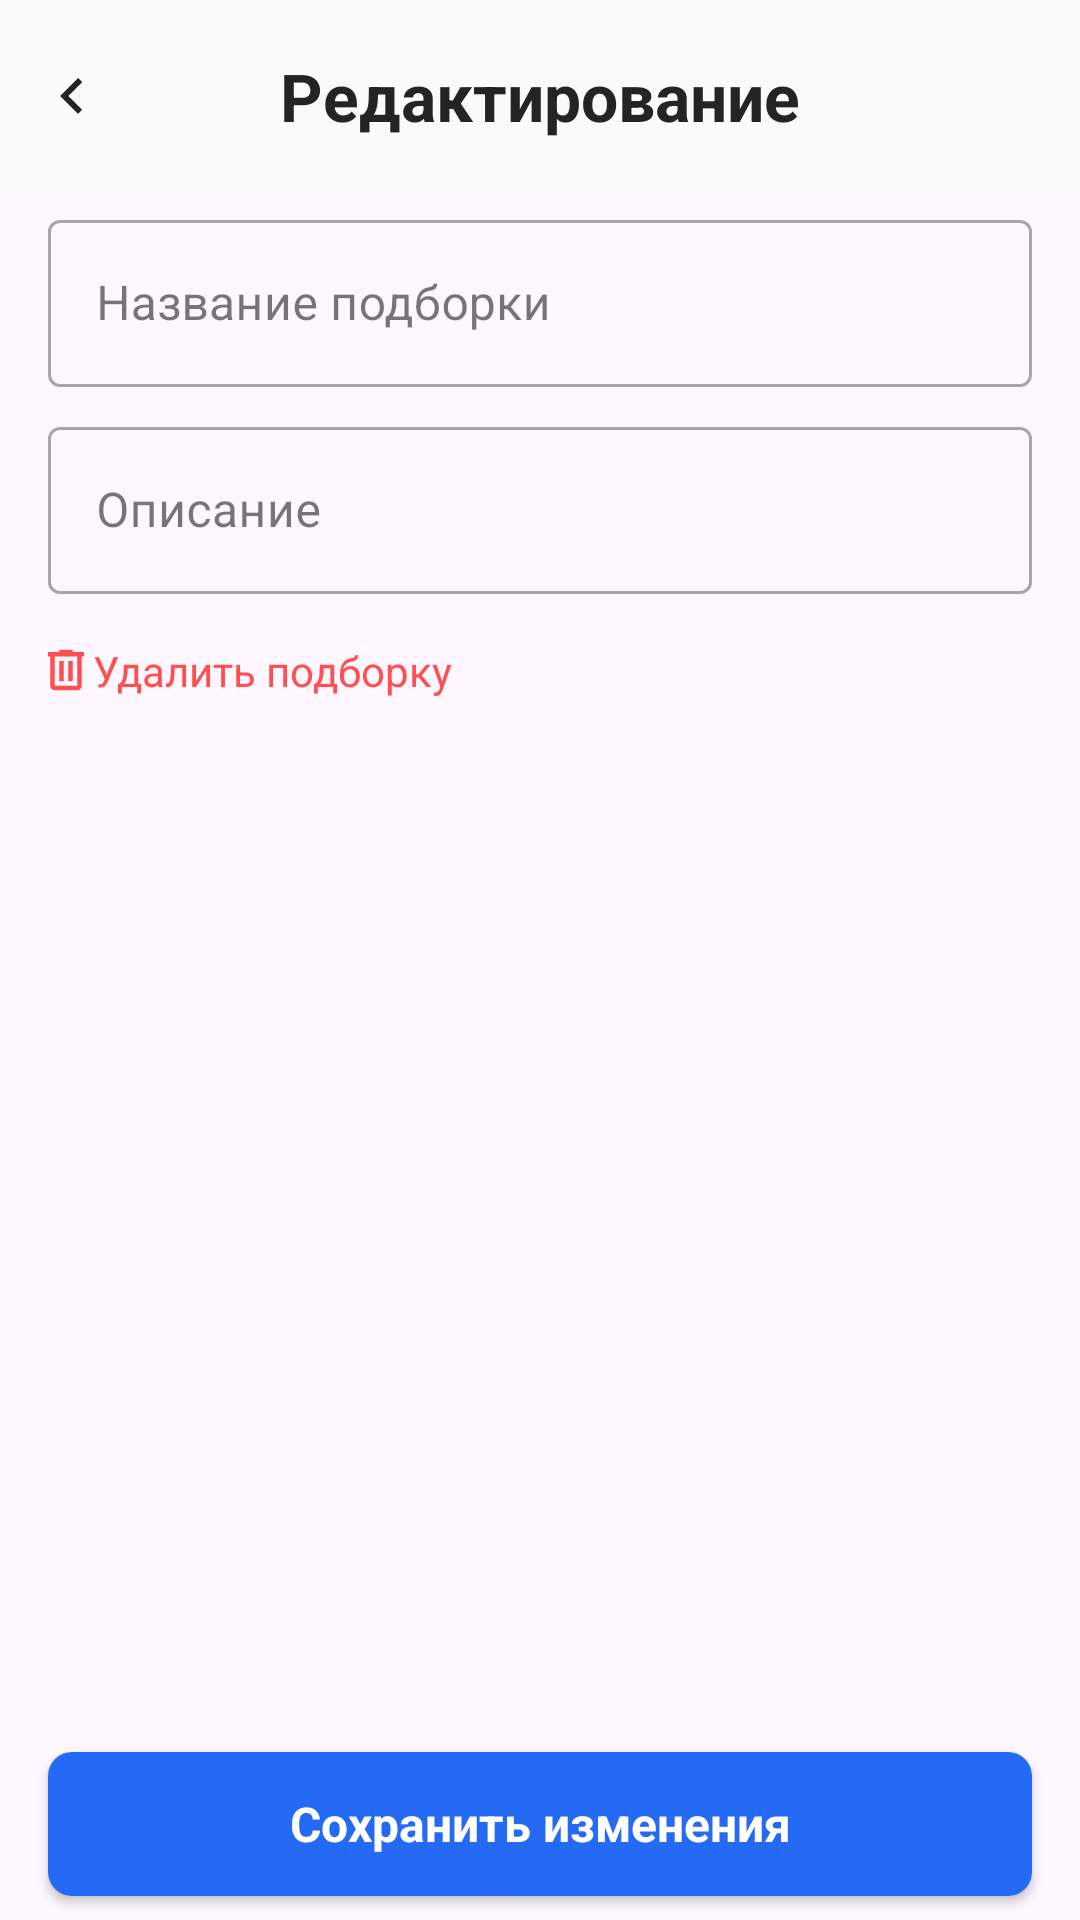

Named icons in this screenshot (1080w x 1920h) and their bounding boxes, BBox(x1, y1, x2, y2):
GO BACK: BBox(60, 78, 82, 114)
